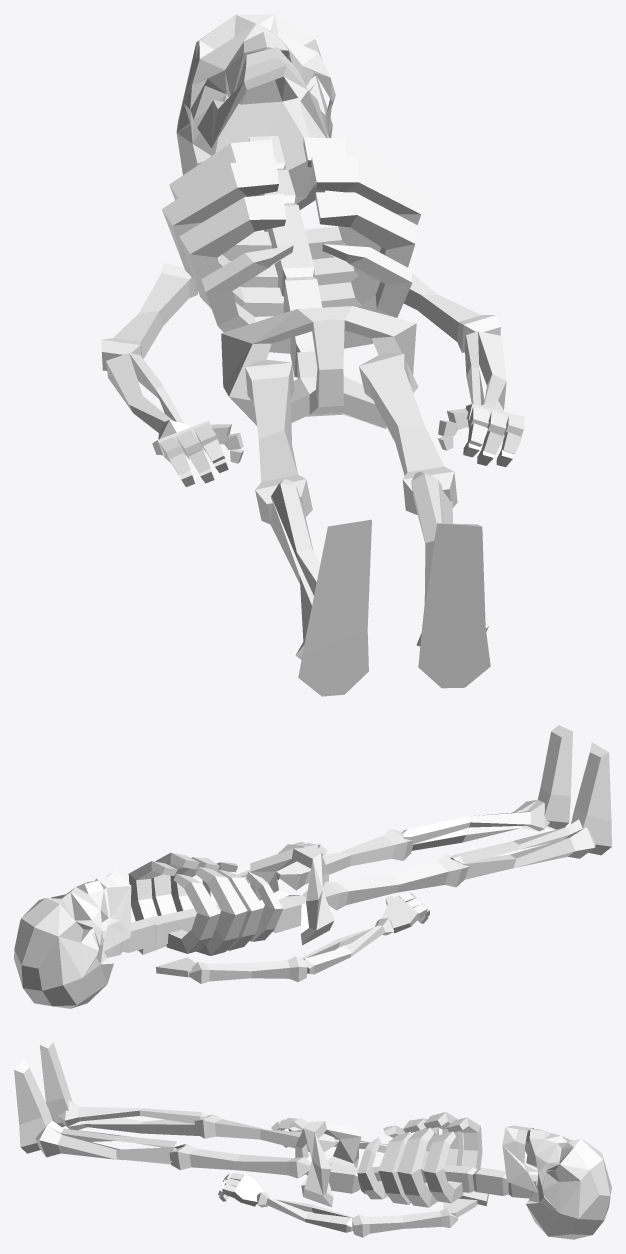
Rendered from skeleton.fbx.
The picture shows the model from 3 angles, top to bottom: view 1: azimuth 30°, elevation 25°; view 2: azimuth 150°, elevation 25°; view 3: azimuth 270°, elevation 25°; orthographic projection. The views are drawn at different scales.
Visible parts, largest first — view 1: Skeleton.004; view 2: Skeleton.004; view 3: Skeleton.004.
Boxes of the visible parts, <box> form: Skeleton.004: <box>101,14,524,696</box>; Skeleton.004: <box>14,725,611,1008</box>; Skeleton.004: <box>14,1037,611,1239</box>.
Bounding box in the file's own units: 30.37 × 10.86 × 57.83.
